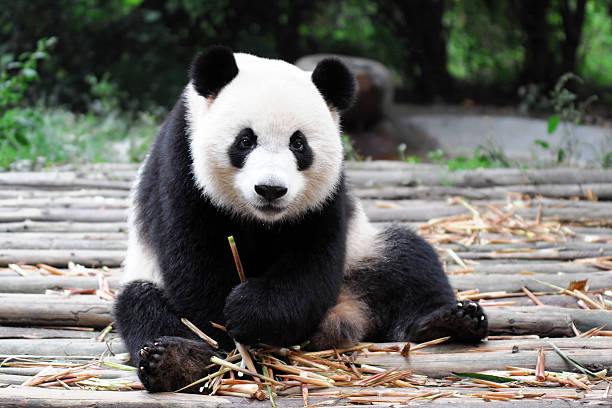panda: (152, 33, 360, 250)
